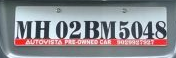0: (130, 20, 143, 40), (55, 20, 68, 39)
2: (68, 20, 82, 39)
4: (143, 20, 155, 39)
5: (118, 20, 130, 39)
8: (154, 19, 166, 39)
B: (83, 19, 99, 39)
H: (34, 19, 52, 40)
M: (14, 19, 34, 40), (99, 20, 117, 40)
